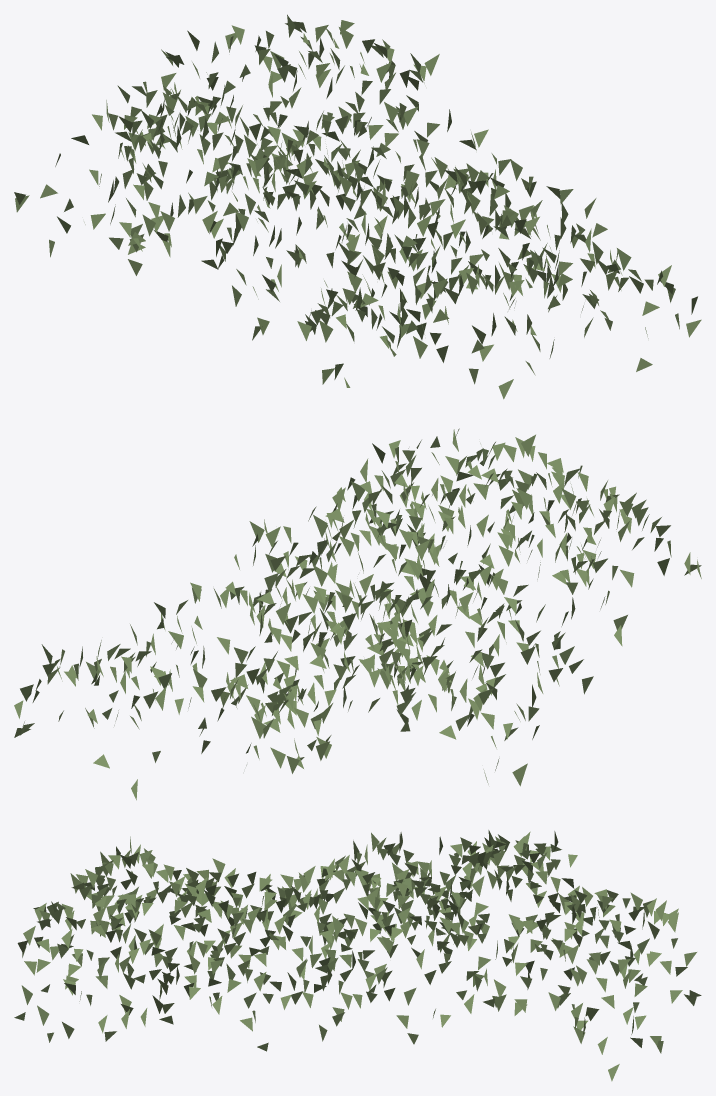
File: xiyuan-vegetation-32-medium.glb
3 renders of one model, top to bottom at view 1: azimuth 30°, elevation 25°; view 2: azimuth 150°, elevation 25°; view 3: azimuth 270°, elevation 25°, orthographic. The views are drawn at different scales.
Visible parts, largest first — view 1: shrubs.002; view 2: shrubs.002; view 3: shrubs.002.
Part boxes in pixels (x1,y1,x2,y2): shrubs.002: (14, 14, 701, 399); shrubs.002: (14, 428, 701, 800); shrubs.002: (14, 830, 701, 1081).
Bounding box in the file's own units: 5.05 × 1.32 × 7.76.
